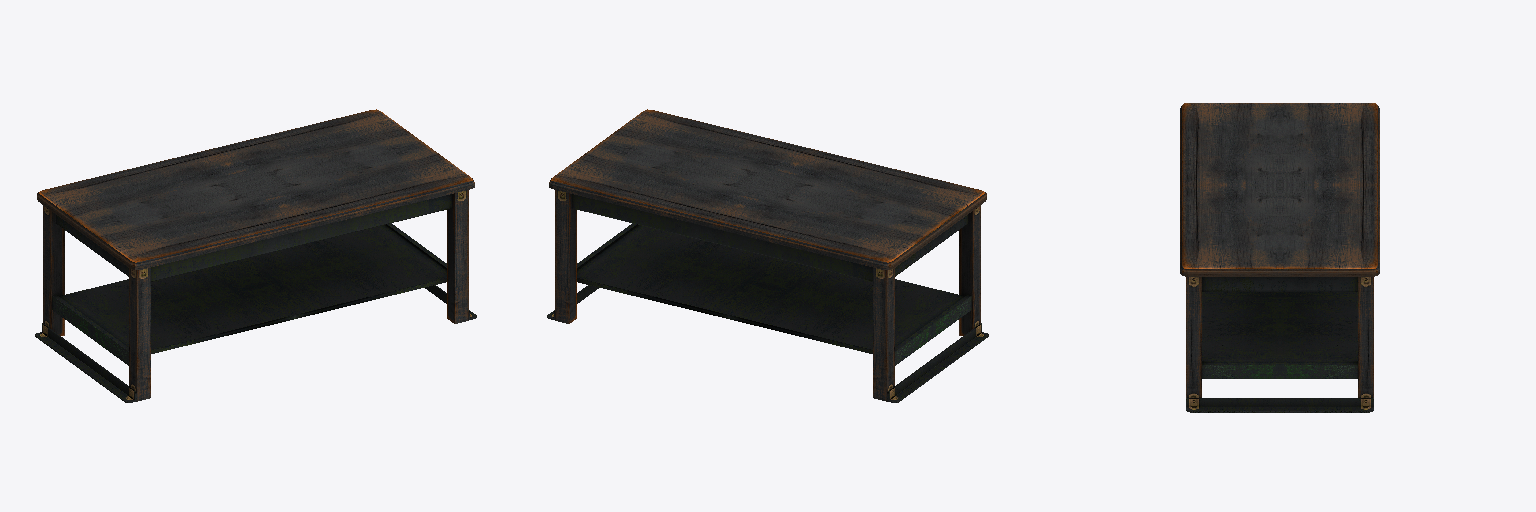
The picture shows the model from 3 angles: view 1: azimuth 30°, elevation 25°; view 2: azimuth 150°, elevation 25°; view 3: azimuth 270°, elevation 25°; orthographic projection.
Visible parts, largest first — view 1: WorkBench_B; view 2: WorkBench_B; view 3: WorkBench_B.
Part boxes in pixels (x1,y1,x2,y2): WorkBench_B: (35,109,476,402); WorkBench_B: (547,109,988,402); WorkBench_B: (1180,103,1379,412).
Size of the model in its own units: 416 by 160 by 205.
Materials: 1 (1 with a texture image).